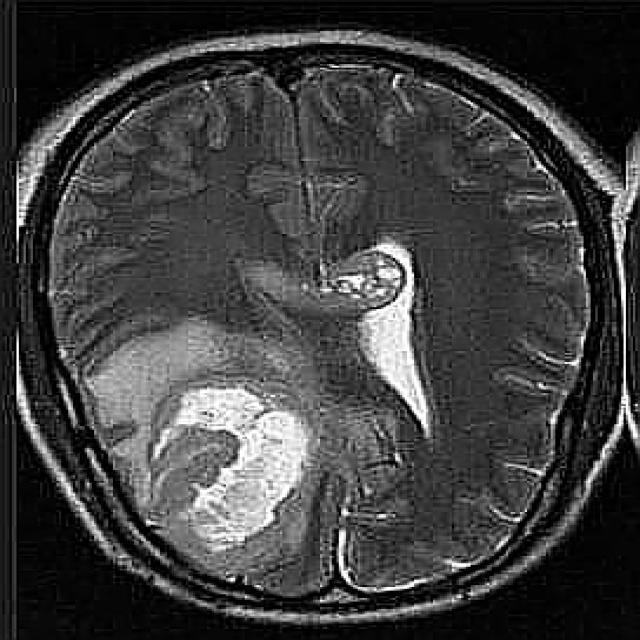Tumor-Cell: (150, 368, 318, 538)
